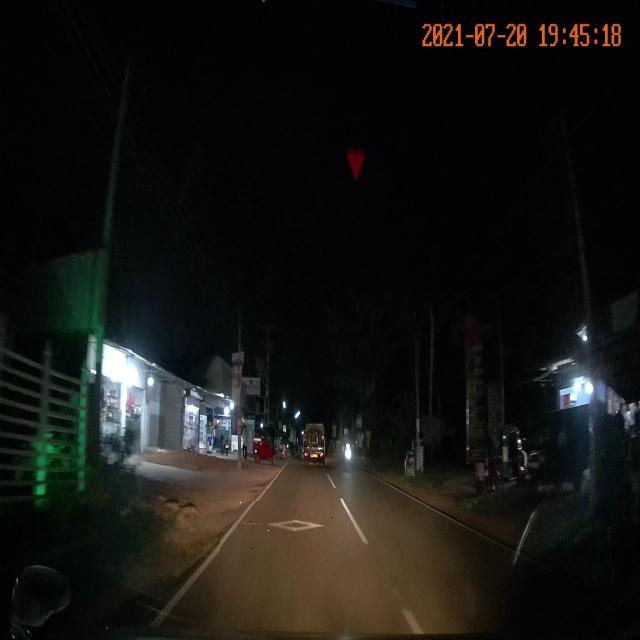diamond: (220, 502, 376, 557)
